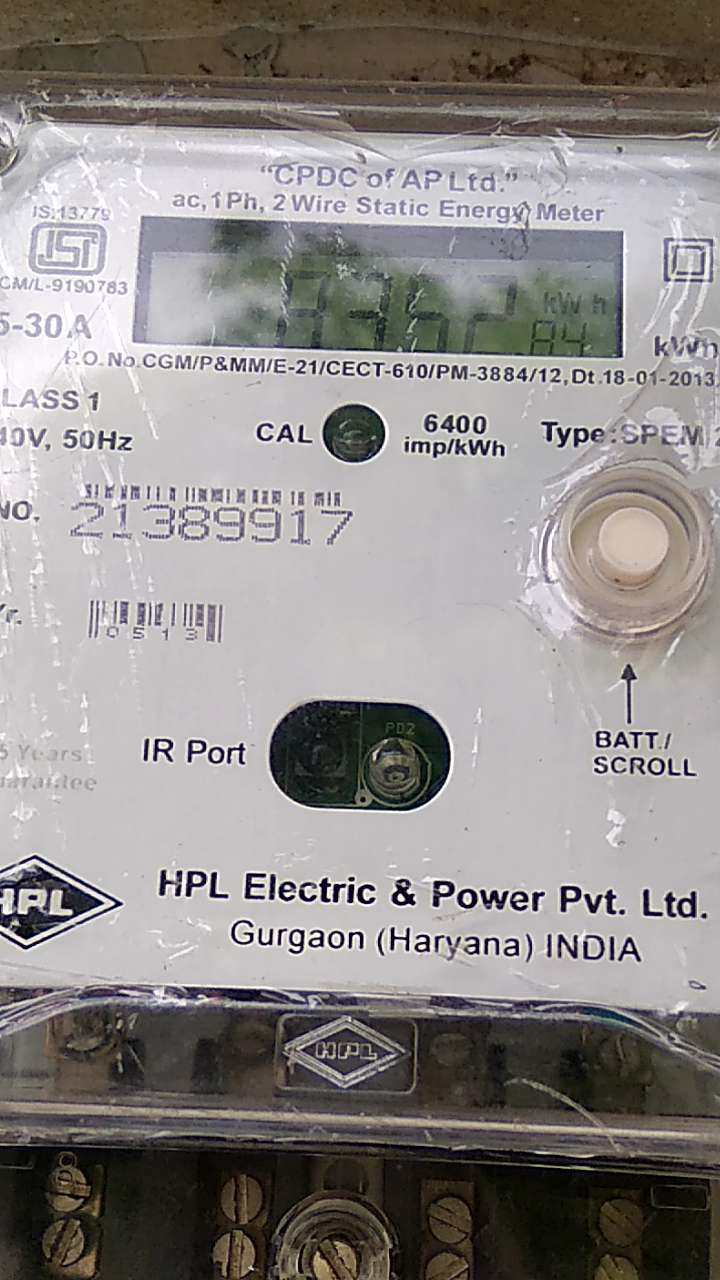meter_serial_number: (58, 498, 369, 550)
